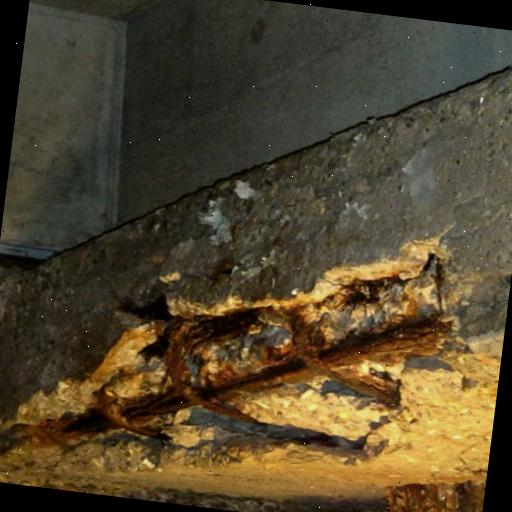spalling: (0, 241, 455, 463)
